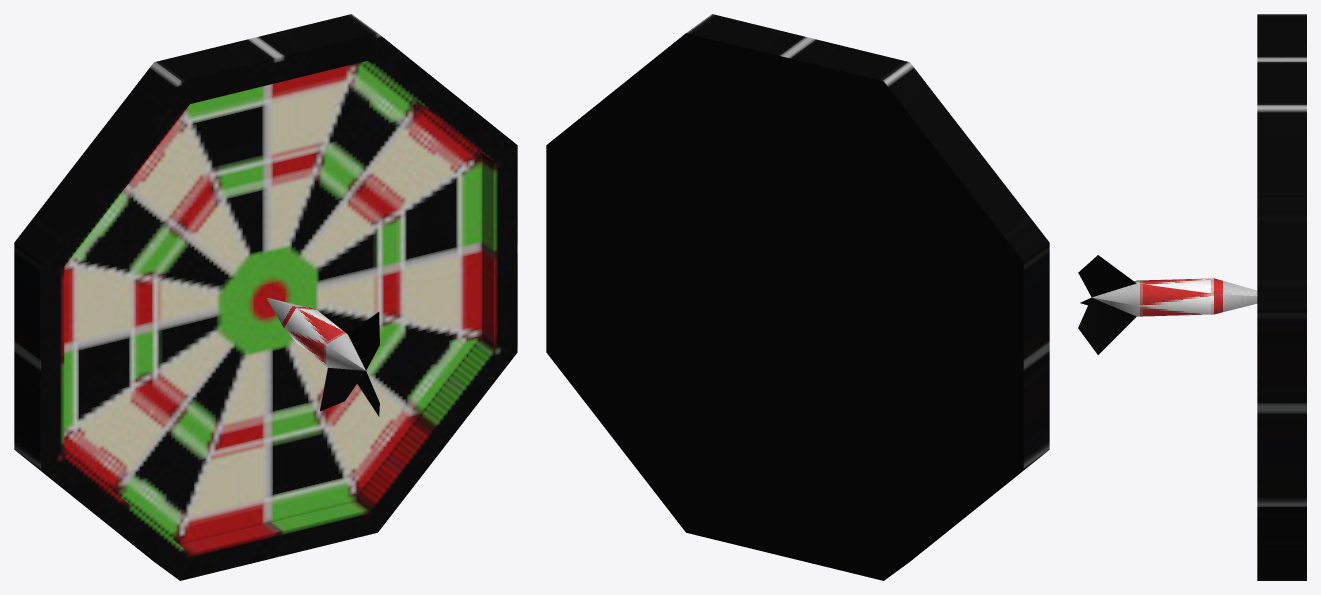
Rendered from dart_board_and_dart.glb.
3 renders of one model, left to right at view 1: azimuth 30°, elevation 25°; view 2: azimuth 150°, elevation 25°; view 3: azimuth 270°, elevation 25°, orthographic. The views are drawn at different scales.
Parts seen in each view (by area): view 1: DartBoard, Dart; view 2: DartBoard; view 3: DartBoard, Dart.
Boxes of the visible parts, x1,y1,x2,y2 form: DartBoard: [14, 14, 517, 580]; Dart: [267, 298, 379, 416]; DartBoard: [546, 14, 1049, 580]; DartBoard: [1257, 14, 1306, 580]; Dart: [1078, 255, 1257, 354].
Size of the model in its own units: 20537 by 20537 by 8965.
2 materials, 2 textured.
